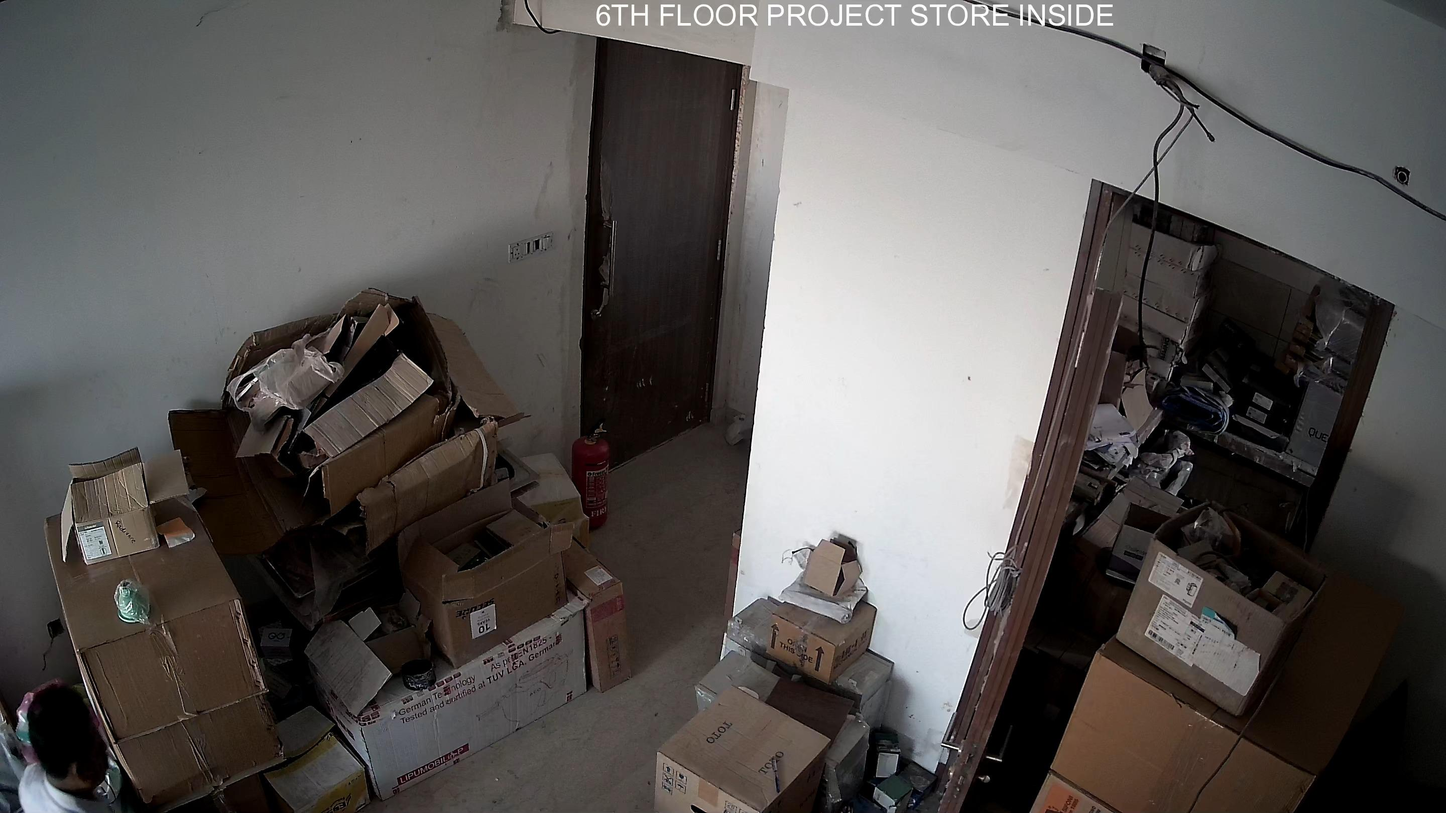Door-Close: (564, 31, 749, 494)
